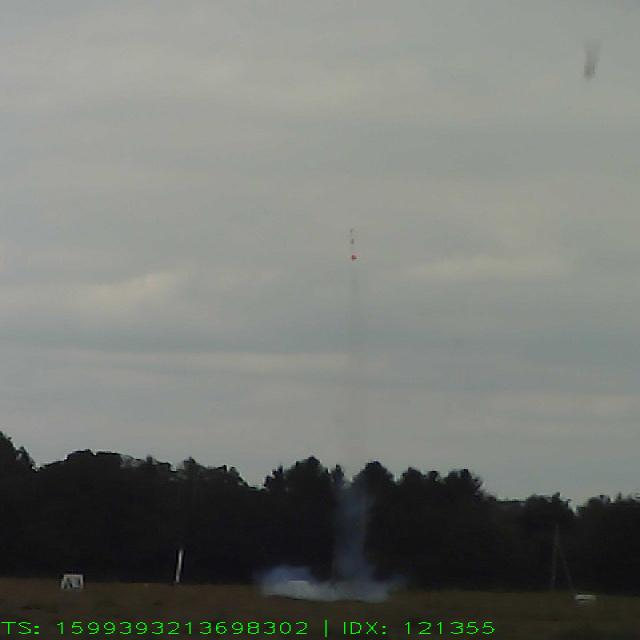Rocket: (173, 547, 184, 584), (347, 226, 357, 262)
